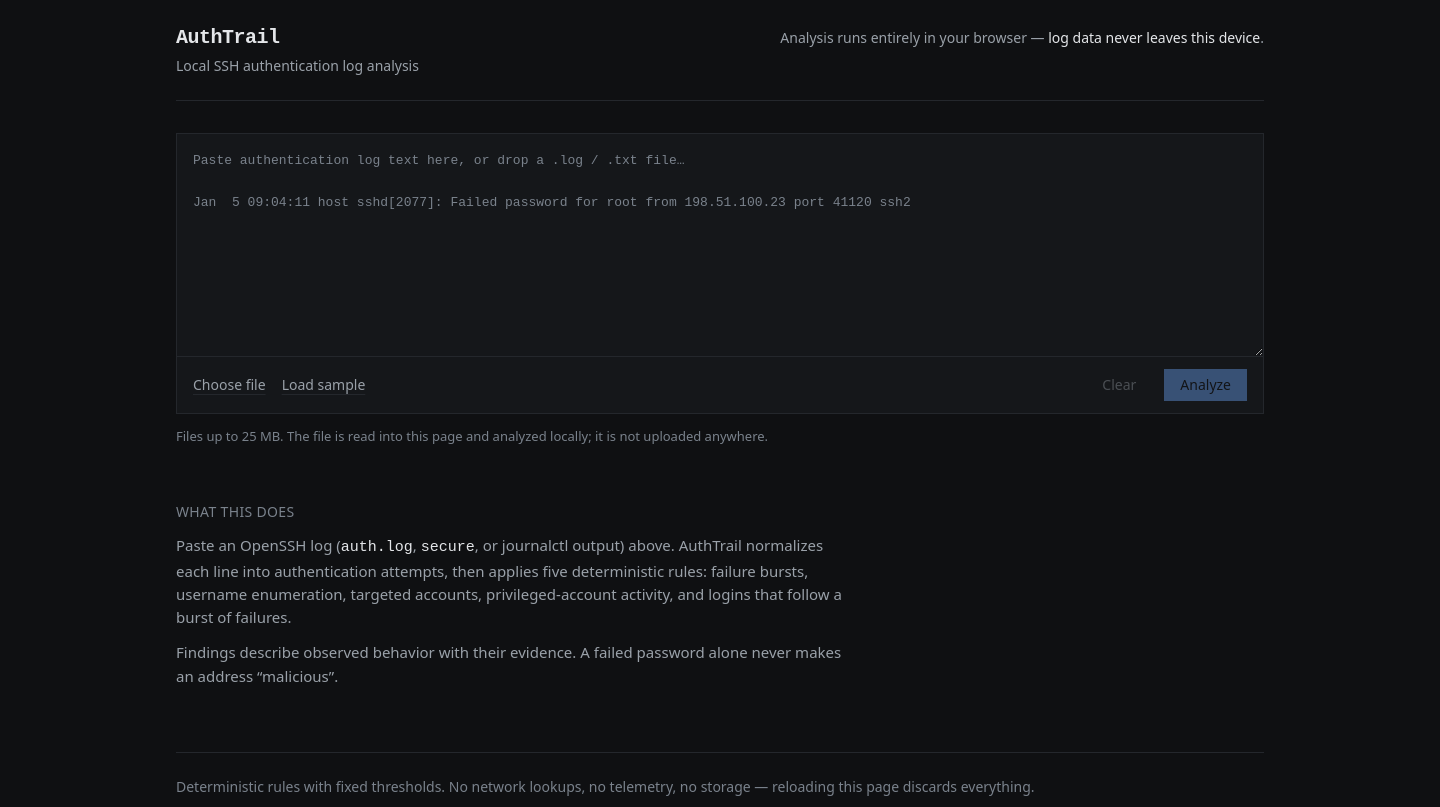
Test: AuthTrail UI › resets result-specific UI state on a new analysis
This screenshot has width=1440, height=807.
Replace the text in the text box labelled "Paste authentication log" with "Jan  5 10:00:00 host sshd[8001]: Failed password for alice from 10.9.9.9 port 22 ssh2" at (720, 245), box [177, 134, 1263, 356]
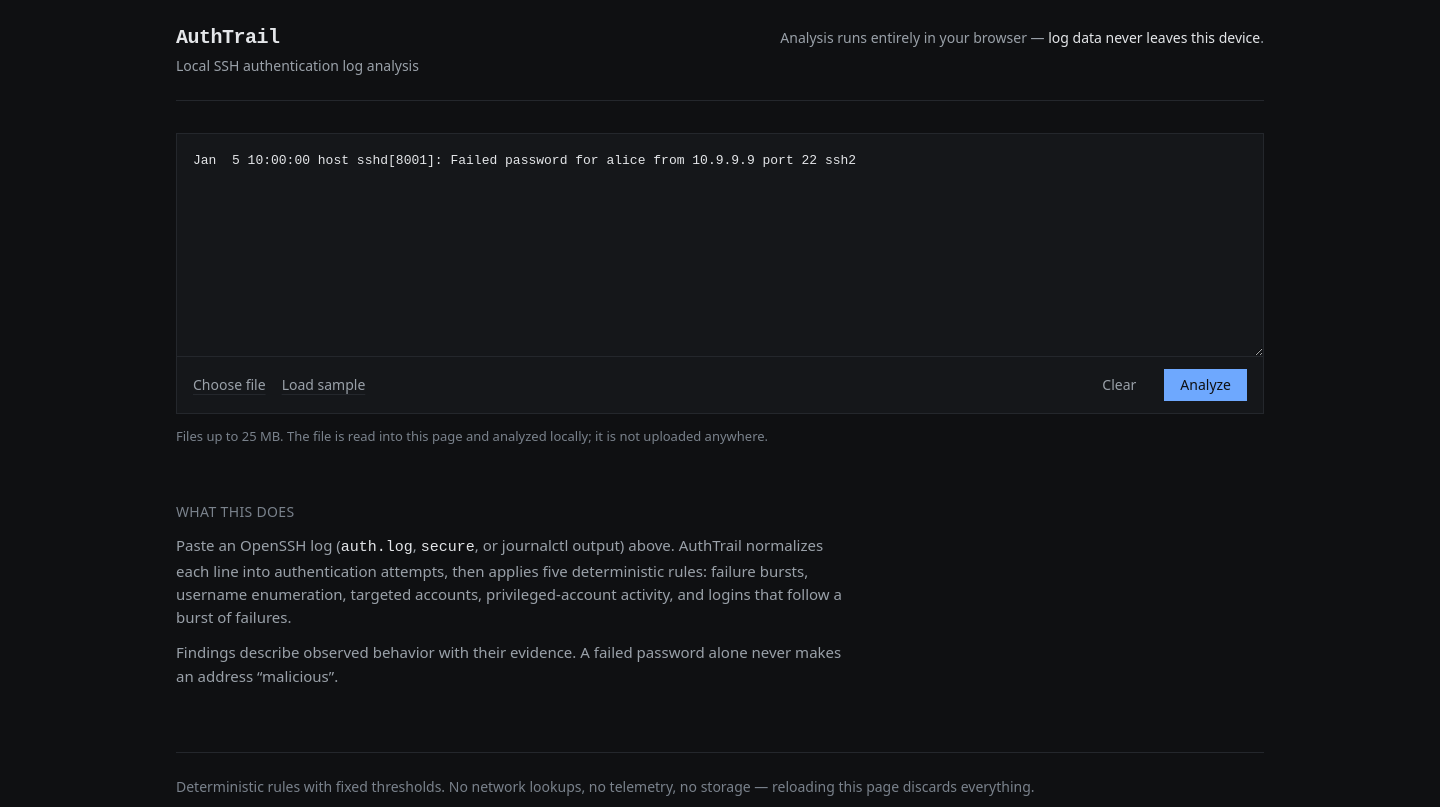
Click the button "Analyze" at (1206, 385), box [1164, 369, 1247, 401]
(page scrolled)
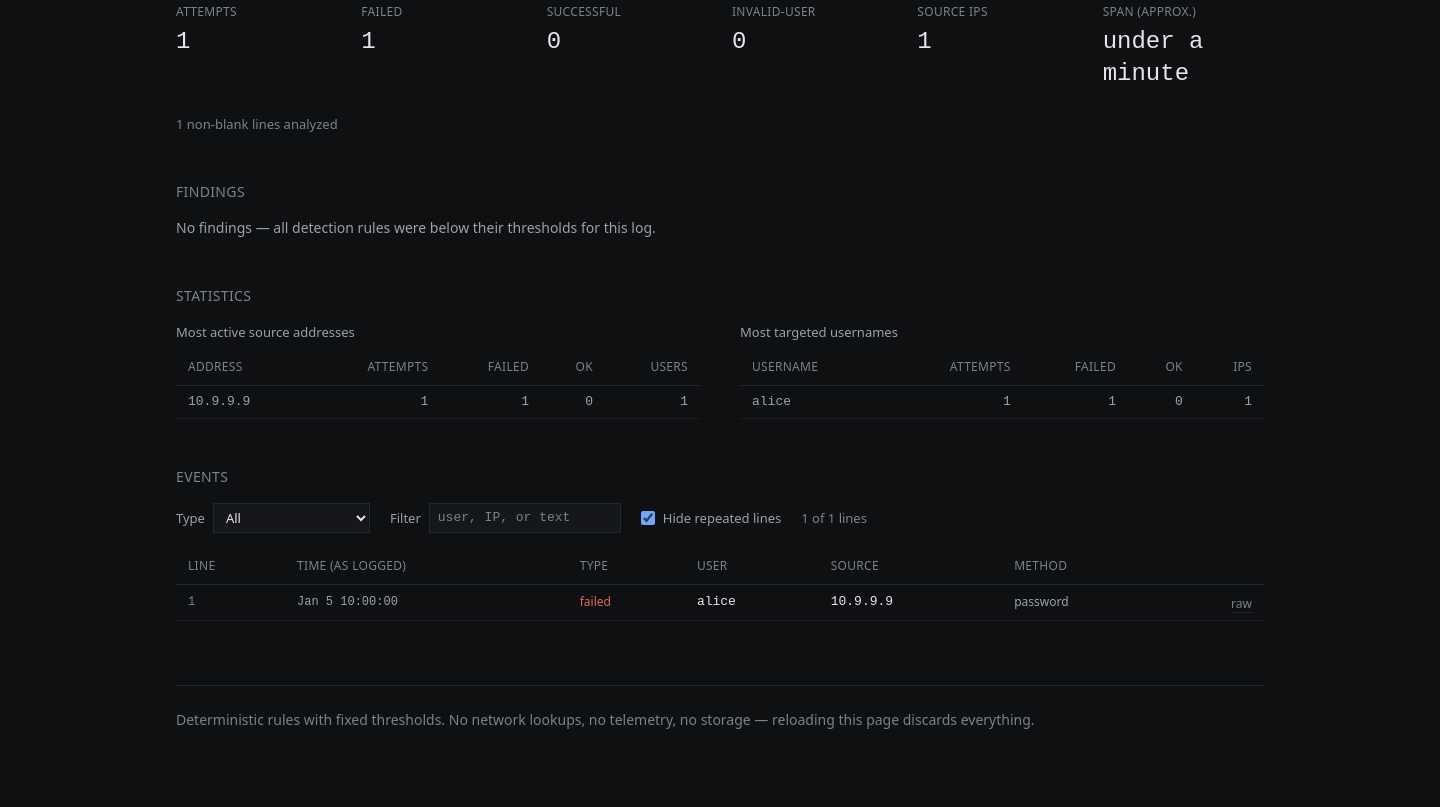
Select "Failed" in the dropdown at (291, 518), box [213, 503, 370, 533]
Type "alice" into the search field with placeholder "user, IP, or text" at (525, 518), box [429, 503, 621, 533]
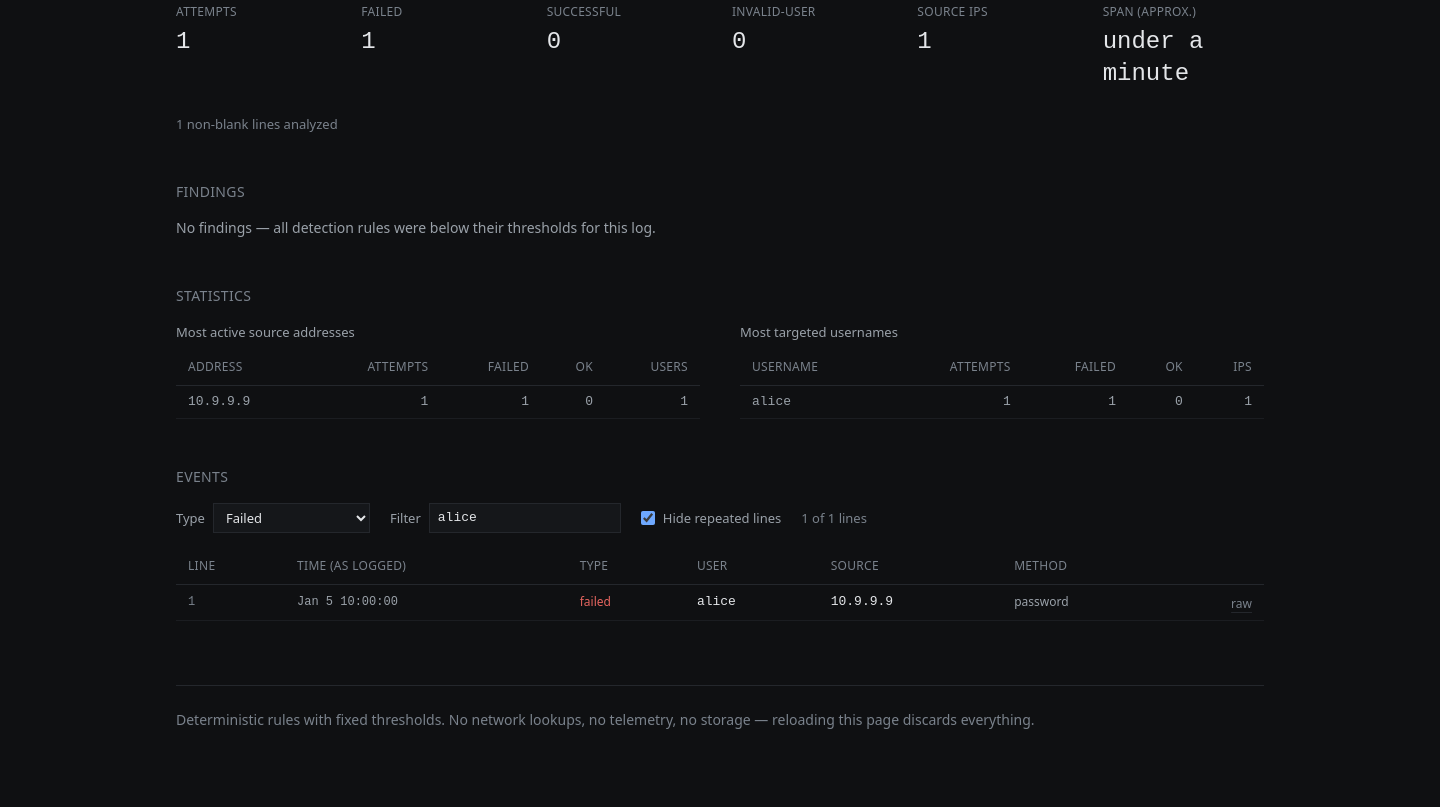
Click the button with aria-label "raw line 1" at (1242, 604), box [1231, 595, 1252, 613]
(page scrolled)
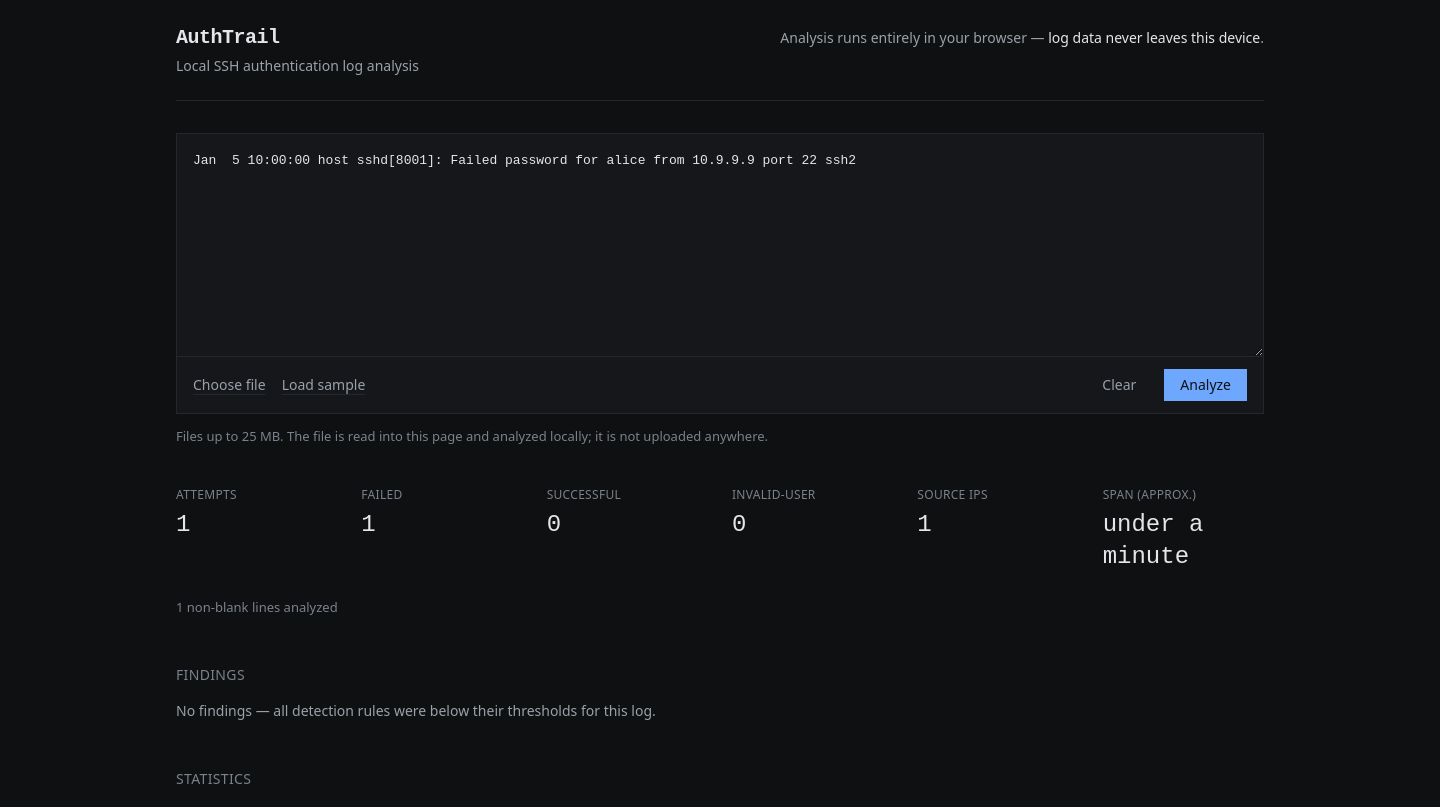
Replace the text in the text box named "Paste authentication log" with "Jan  6 11:00:00 host sshd[8002]: Accepted password for bob from 192.0.2.9 port 22 ssh2" at (720, 245), box [177, 134, 1263, 356]
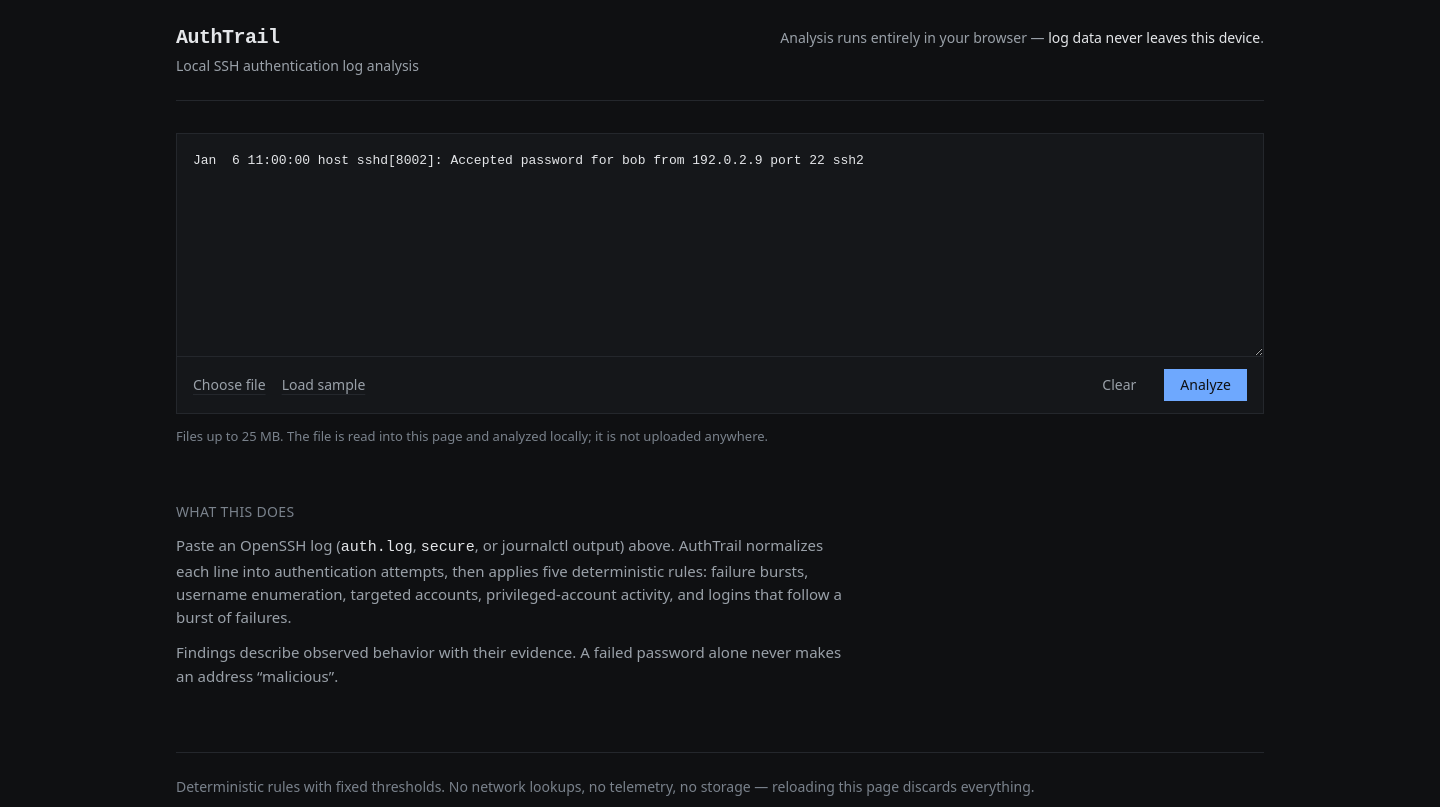
Click the button "Analyze" at (1206, 385), box [1164, 369, 1247, 401]
(page scrolled)
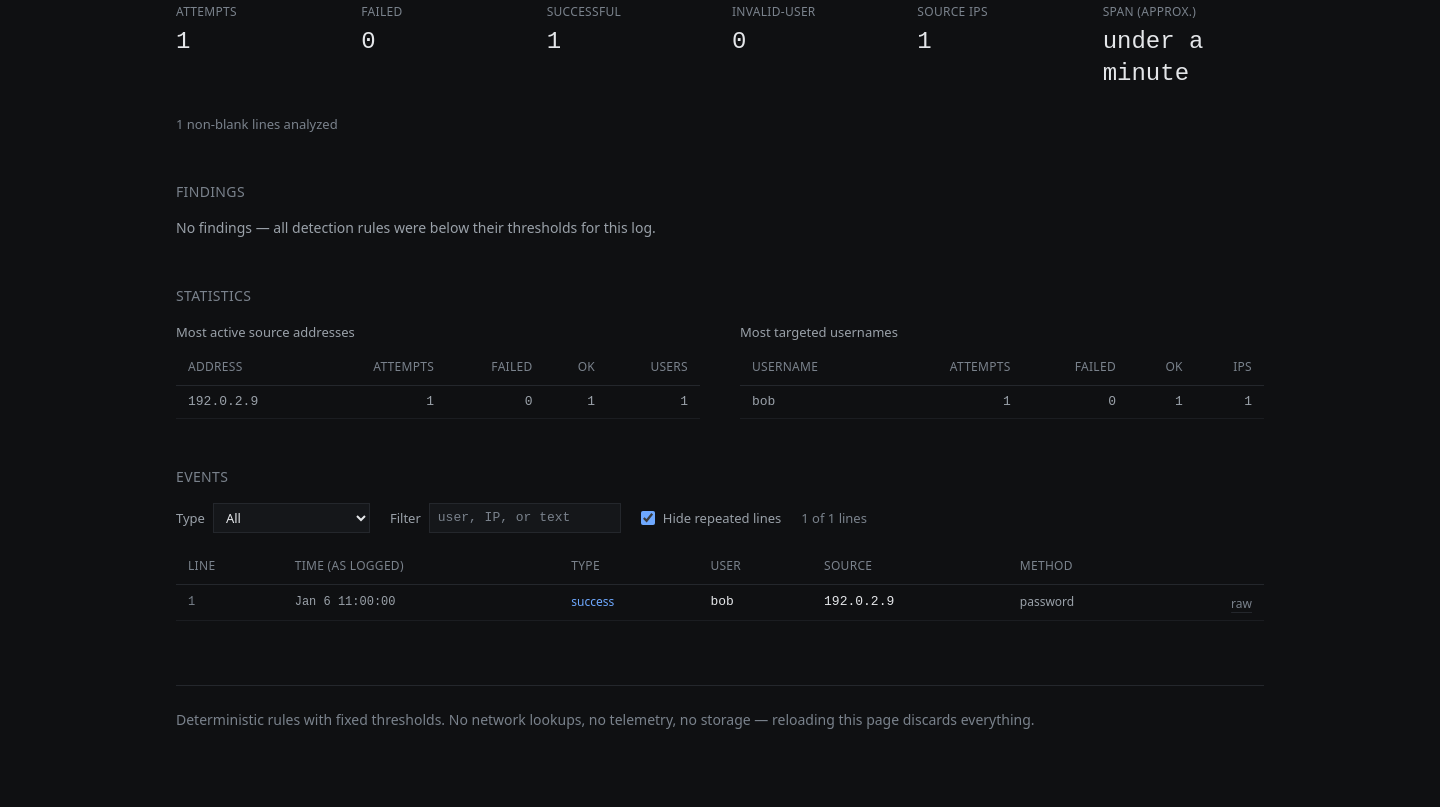
expect the button with aria-label "raw line 1" is collapsed: met, box [1231, 595, 1252, 613]
expect the dropdown shows "All": met, box [213, 503, 370, 533]
expect the search field with placeholder "user, IP, or text" is empty: met, box [429, 503, 621, 533]
